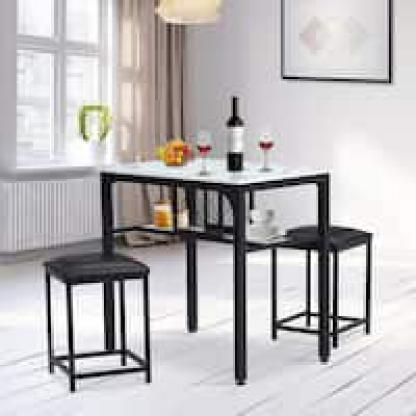chair: (35, 240, 157, 396), (262, 224, 379, 364)
light: (150, 0, 237, 24)
table: (95, 157, 334, 380)
